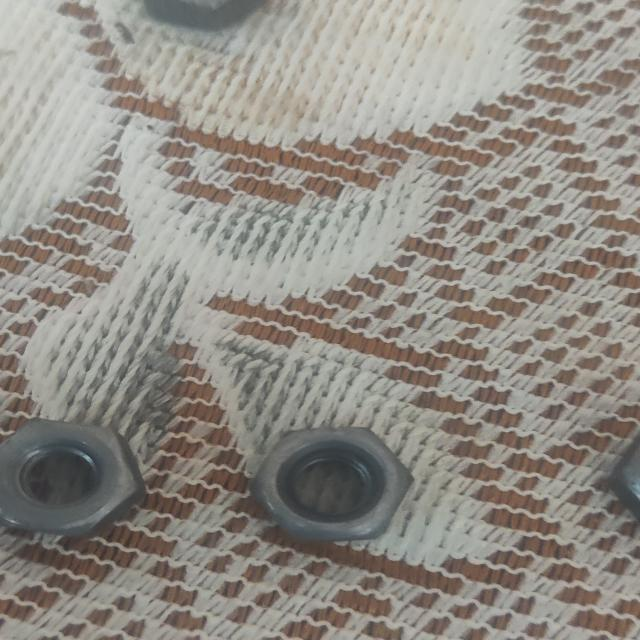disinfected nut: (253, 428, 413, 540), (0, 418, 143, 538), (143, 0, 267, 30)
